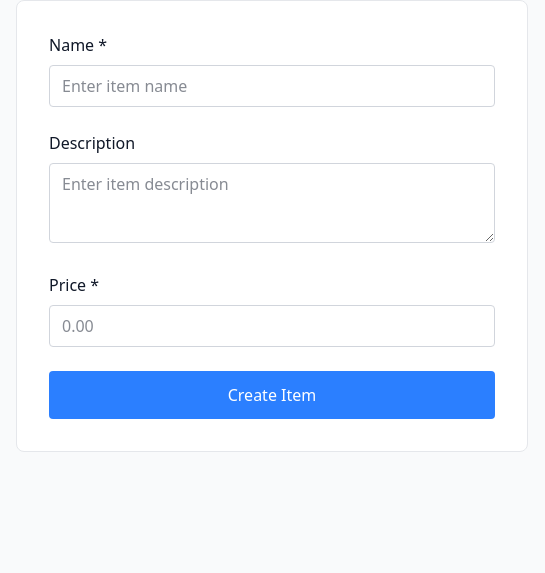
ItemForm Component › shows validation errors for empty required fields
The image size is (545, 573).
What coordinates should you click on to do the following:
click the button "Create Item"
I would click on:
 (272, 395)
Its box is [49, 371, 495, 419].
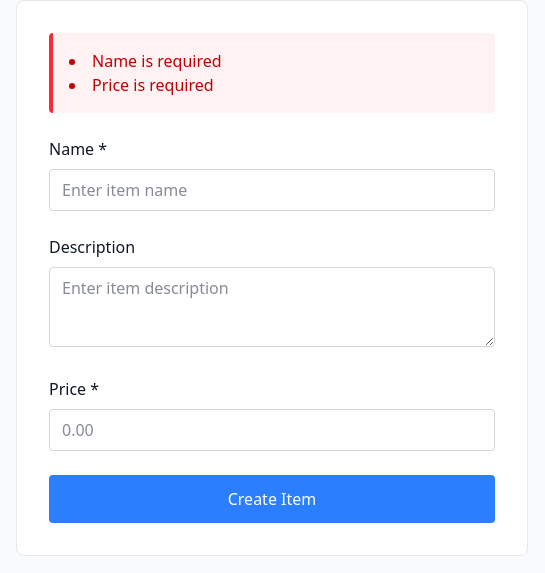
Check: the list item "Name is required" is shown, box [92, 50, 222, 72]
Check: the list item "Price is required" is shown, box [92, 74, 214, 96]
